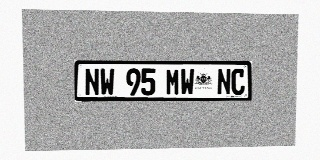5: (141, 68, 155, 95)
9: (126, 68, 141, 96)
C: (231, 69, 245, 95)
M: (166, 68, 180, 95)
N: (84, 68, 99, 96), (217, 69, 231, 95)
W: (100, 68, 115, 96), (180, 68, 194, 95)
